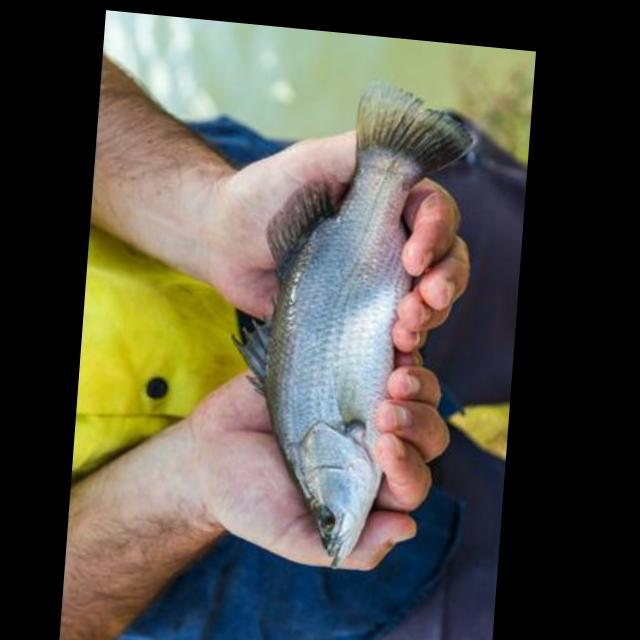Seabass: (215, 77, 482, 583)
